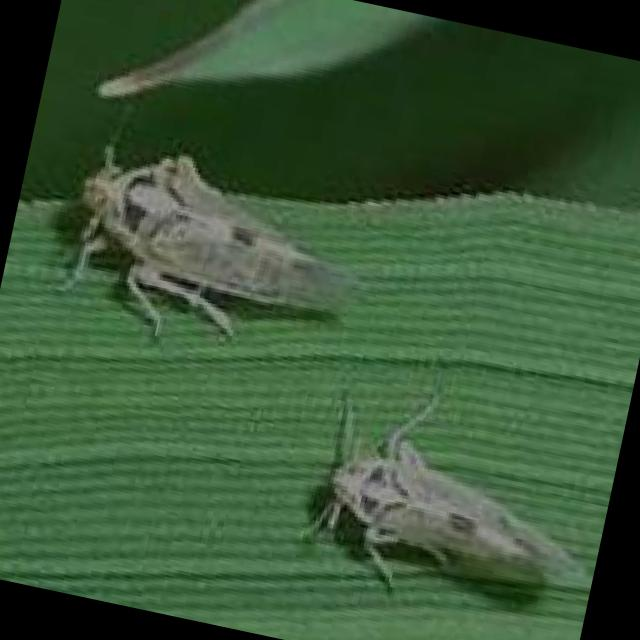brown-planthopper: (67, 136, 370, 330), (310, 431, 599, 602)
